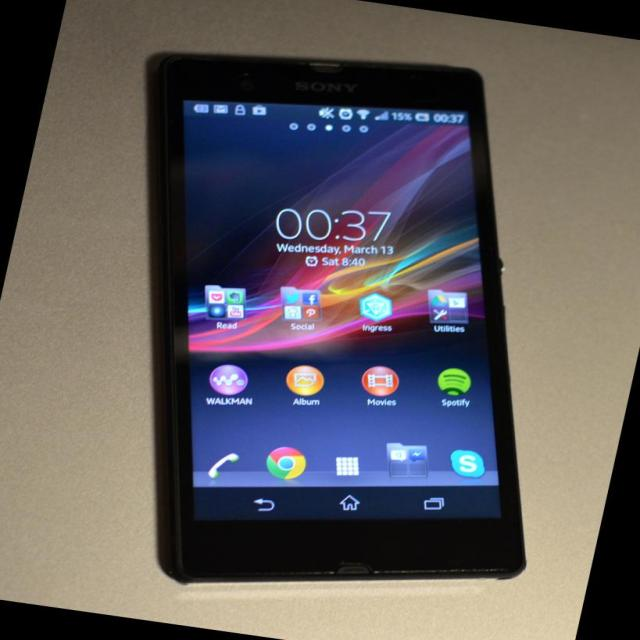handphone: (153, 57, 524, 588)
